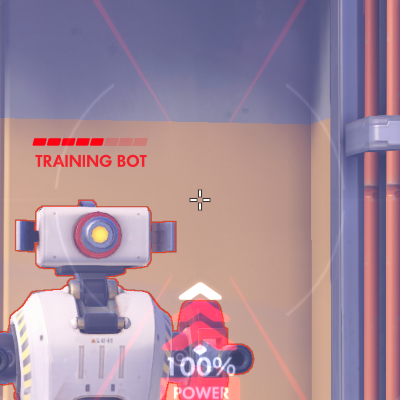hpbar: (32, 137, 148, 147)
